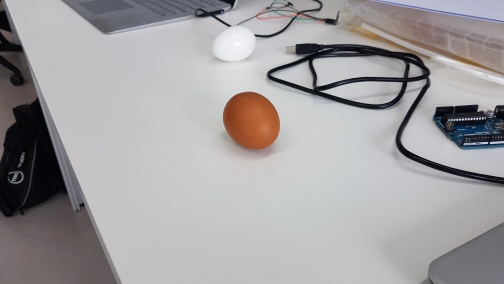egg: (221, 89, 282, 151), (210, 24, 258, 63)
